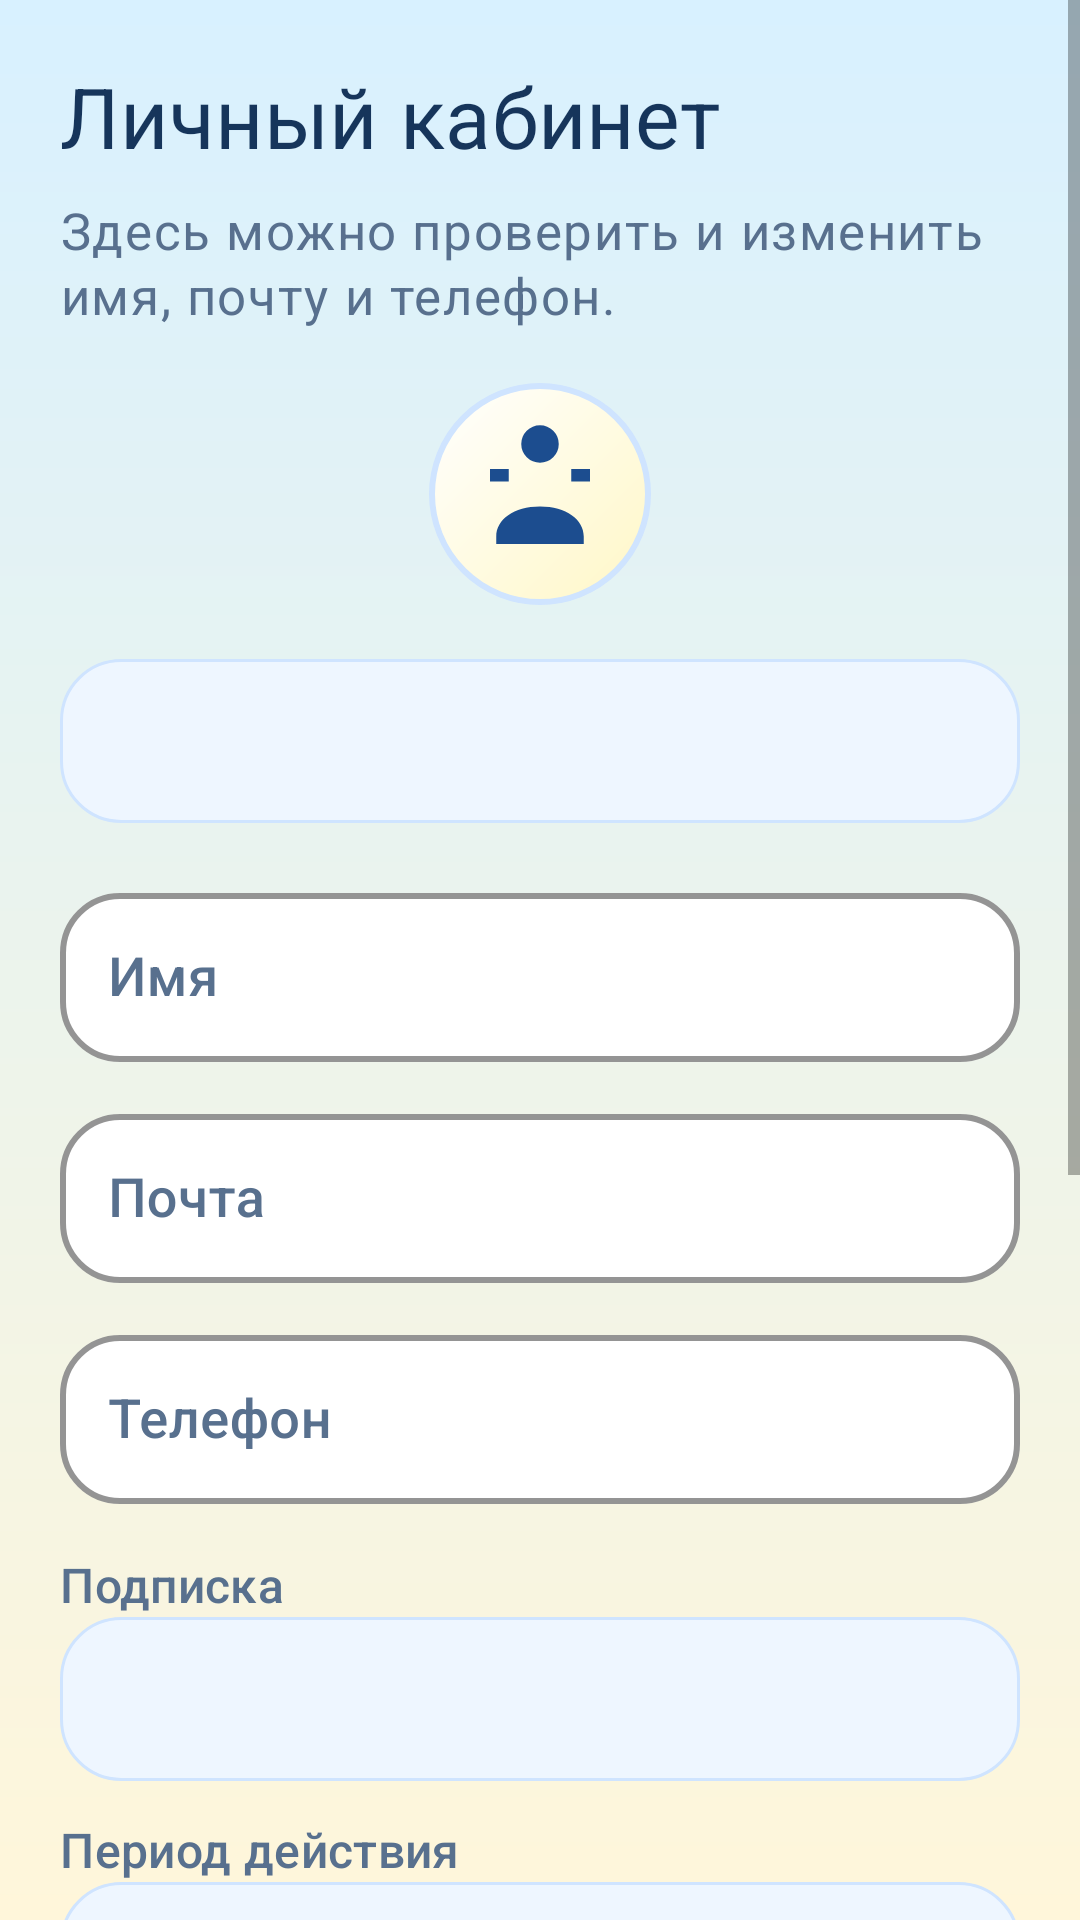

Point at icon controls on the screen. Image size 1080x1920, points as [x,y].
Личный кабинет: [540,494]
